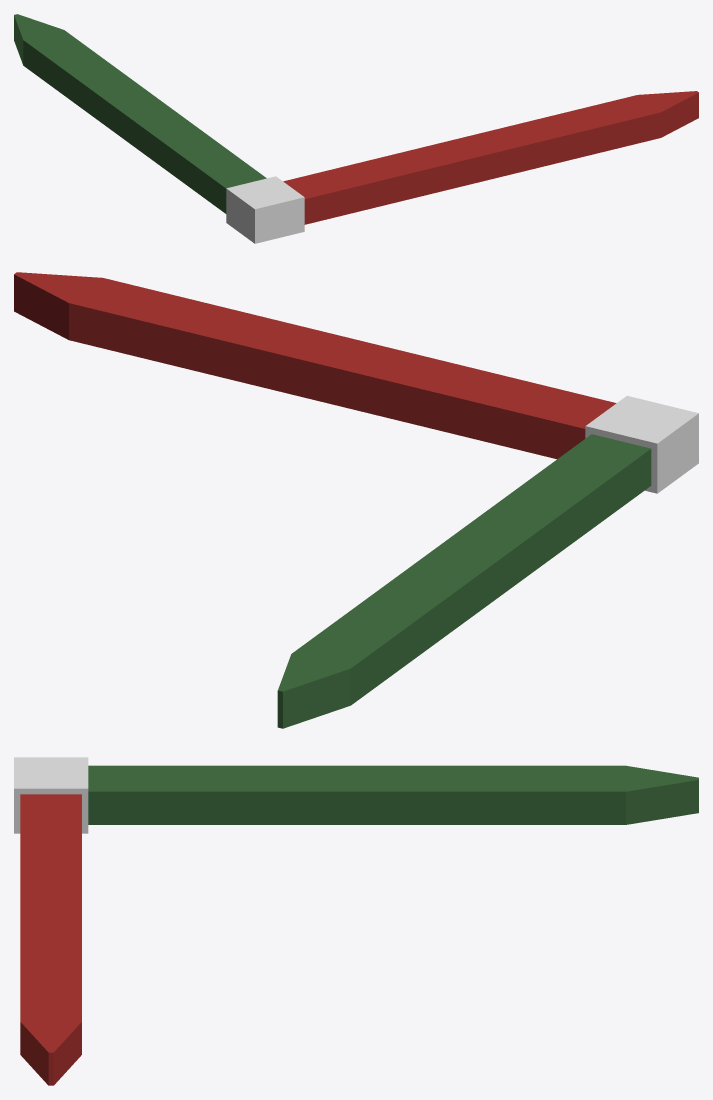
Rendered from gizmo.fbx.
The picture shows the model from 3 angles, top to bottom: view 1: azimuth 30°, elevation 25°; view 2: azimuth 150°, elevation 25°; view 3: azimuth 270°, elevation 25°; orthographic projection. The views are drawn at different scales.
Parts seen in each view (by area): view 1: Cube.020; view 2: Cube.020; view 3: Cube.020.
Part boxes in pixels (bbox=[...]): Cube.020: bbox=[14, 14, 698, 243]; Cube.020: bbox=[14, 272, 698, 728]; Cube.020: bbox=[14, 757, 698, 1085].
Size of the model in its own units: 44.51 by 3.22 by 44.51.
